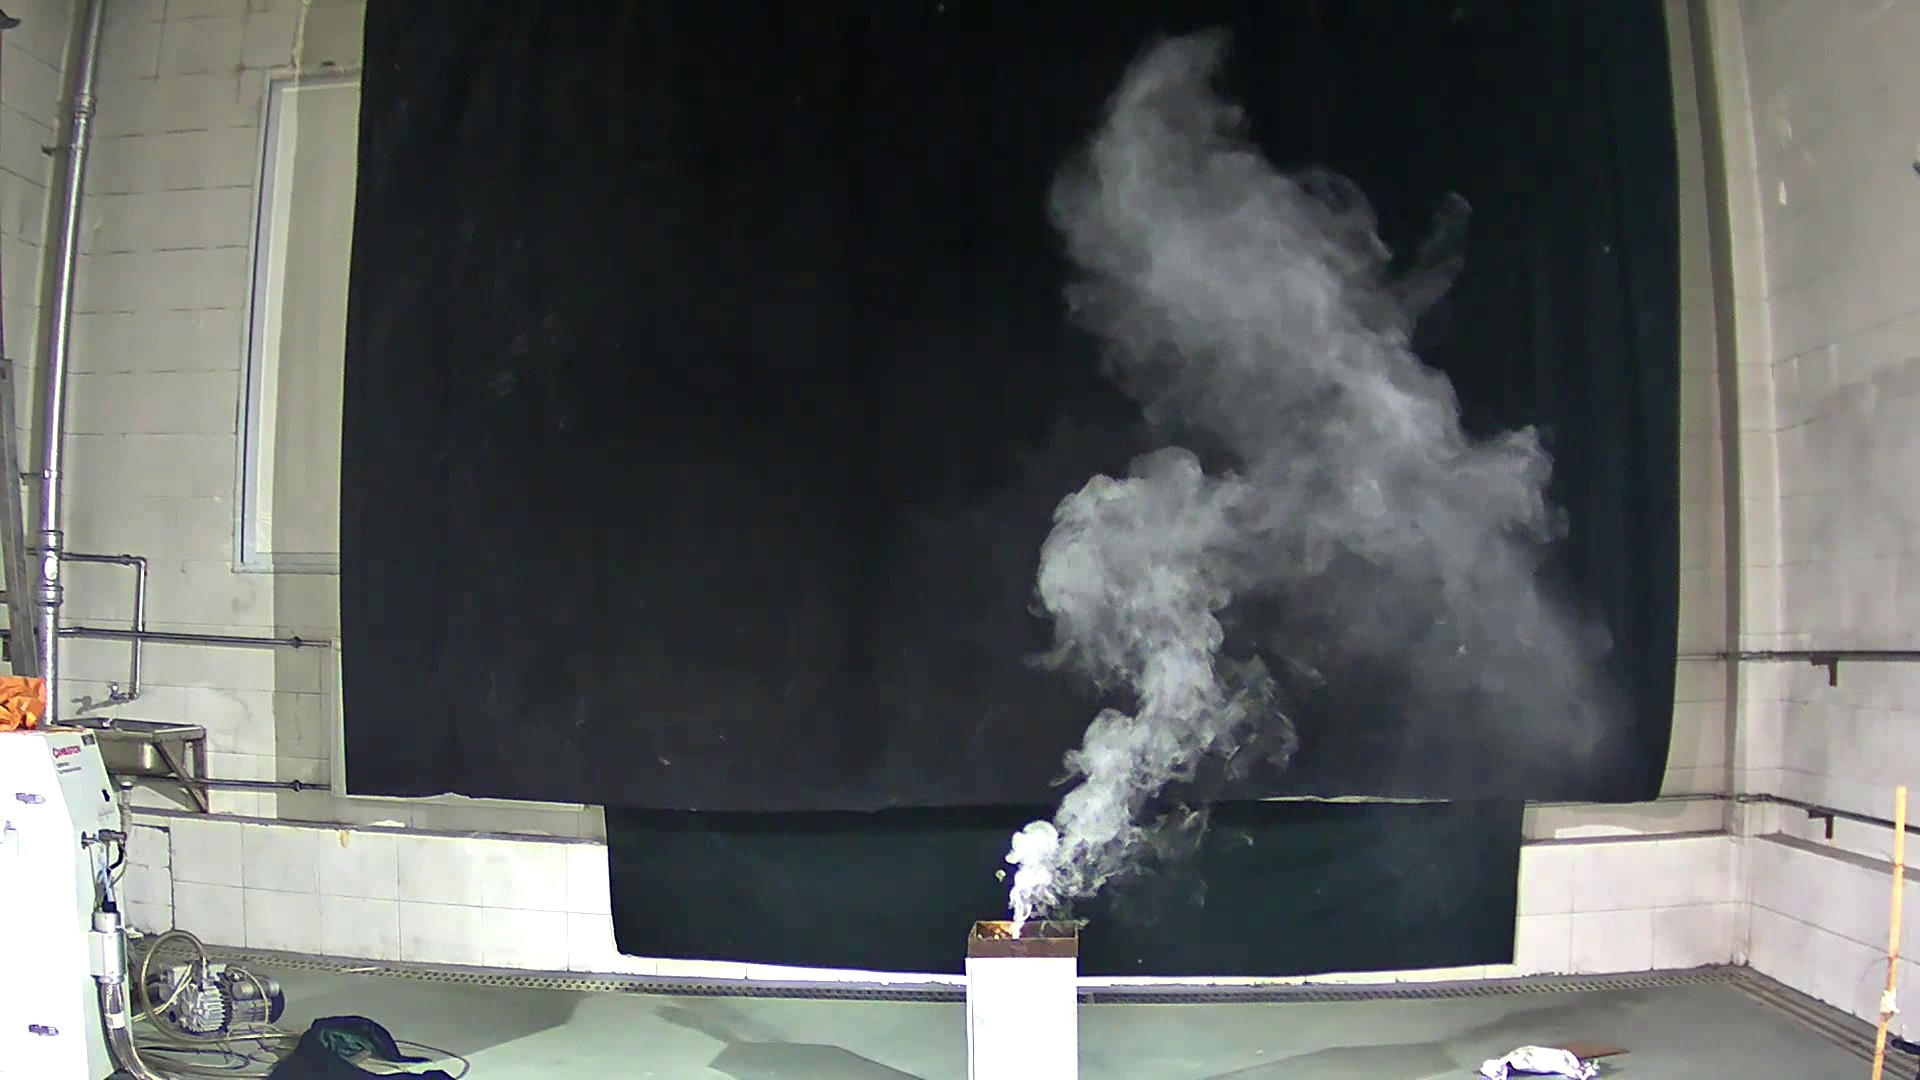smoke: (994, 24, 1606, 895)
